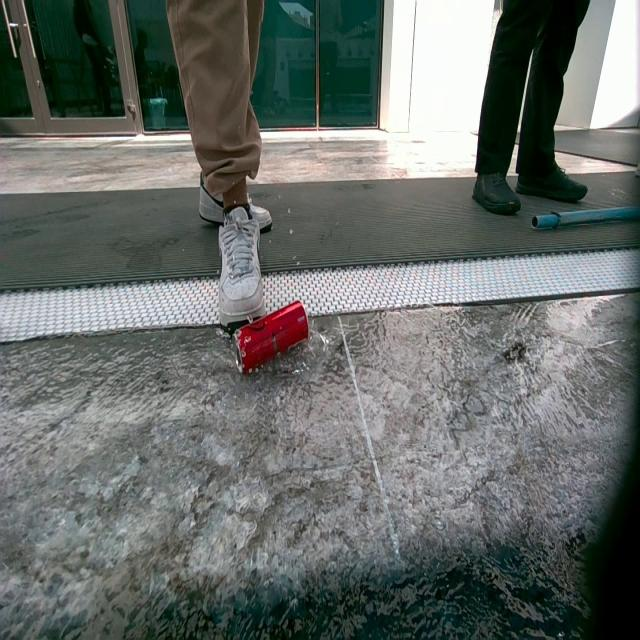Cans: (237, 304, 311, 381)
